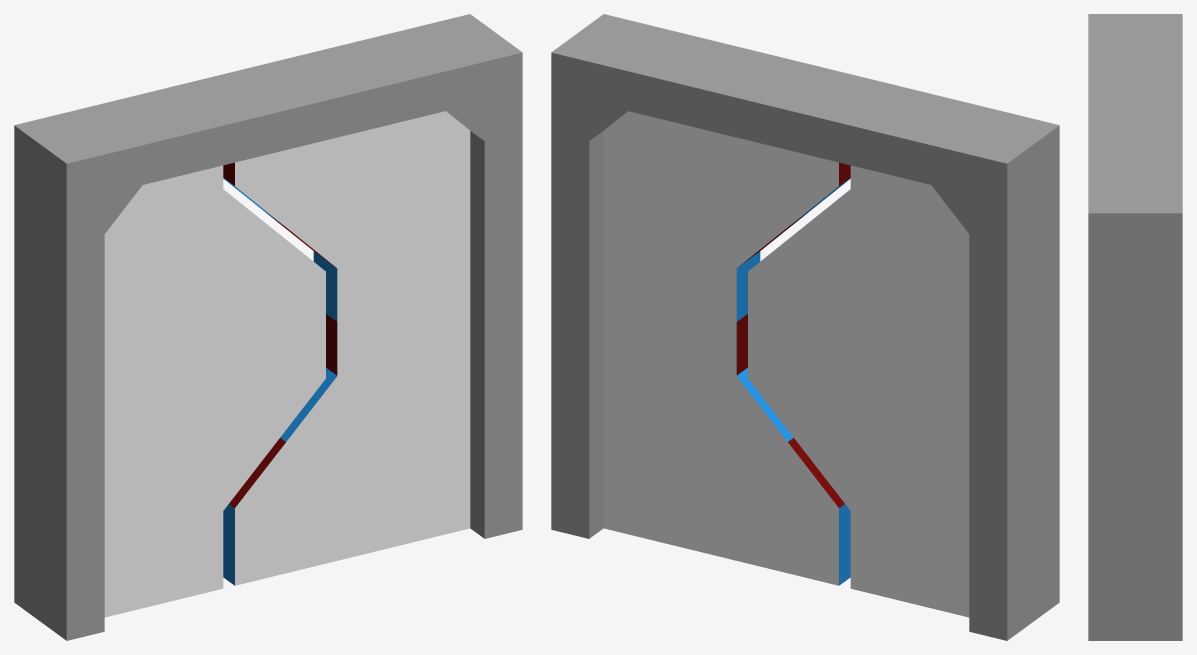
Rendered from Containment1.fbx_DoorContain.fbx.
3 views of the same model, side by side, from view 1: azimuth 30°, elevation 25°; view 2: azimuth 150°, elevation 25°; view 3: azimuth 270°, elevation 25° (orthographic). The views are drawn at different scales.
Parts seen in each view (by area): view 1: DoorwayMain, Cube.014, Cube.013; view 2: DoorwayMain, Cube.014, Cube.013; view 3: DoorwayMain.
Boxes of the visible parts, x1,y1,x2,y2 form: DoorwayMain: (14,14,522,640); Cube.014: (223,111,470,585); Cube.013: (104,165,325,617); DoorwayMain: (551,14,1059,640); Cube.014: (603,111,850,585); Cube.013: (748,165,969,617); DoorwayMain: (1088,14,1182,640).
Size of the model in its own units: 300 by 300 by 60.
